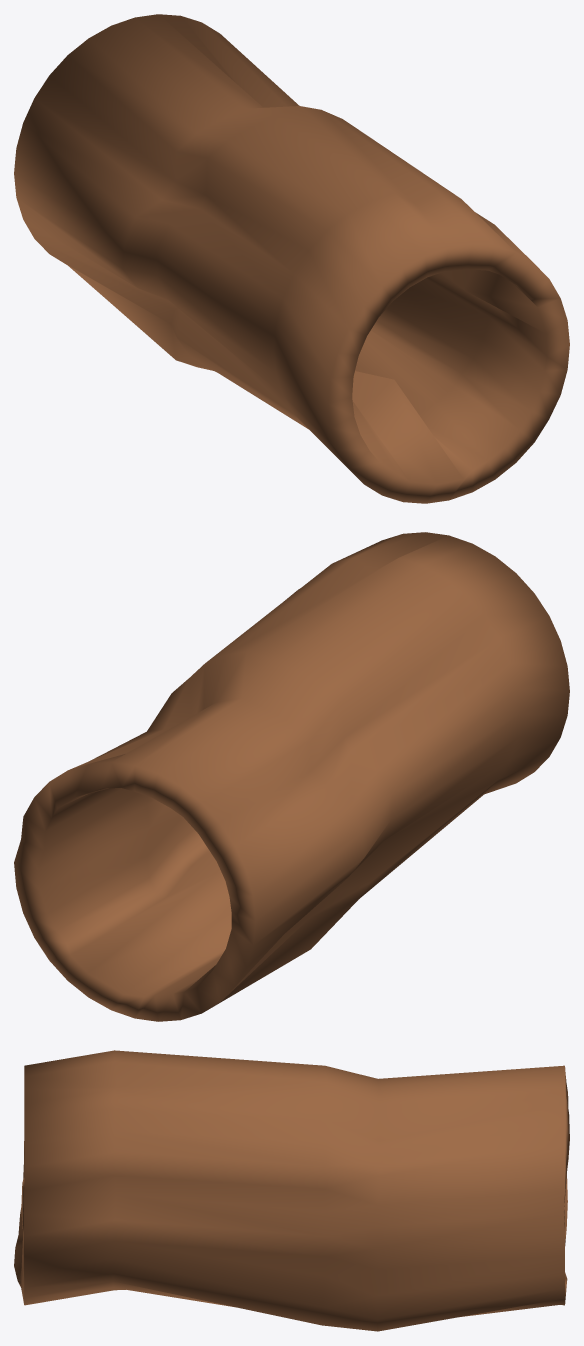
File: log1.fbx
3 views of the same model, one above another, from view 1: azimuth 30°, elevation 25°; view 2: azimuth 150°, elevation 25°; view 3: azimuth 270°, elevation 25° (orthographic). The views are drawn at different scales.
Visible parts, largest first — view 1: Log1; view 2: Log1; view 3: Log1.
Part boxes in pixels (bbox=[...]): Log1: bbox=[14, 14, 569, 503]; Log1: bbox=[14, 532, 569, 1021]; Log1: bbox=[14, 1050, 569, 1331].
Bounding box in the file's own units: 35.13 × 39.03 × 80.64.
